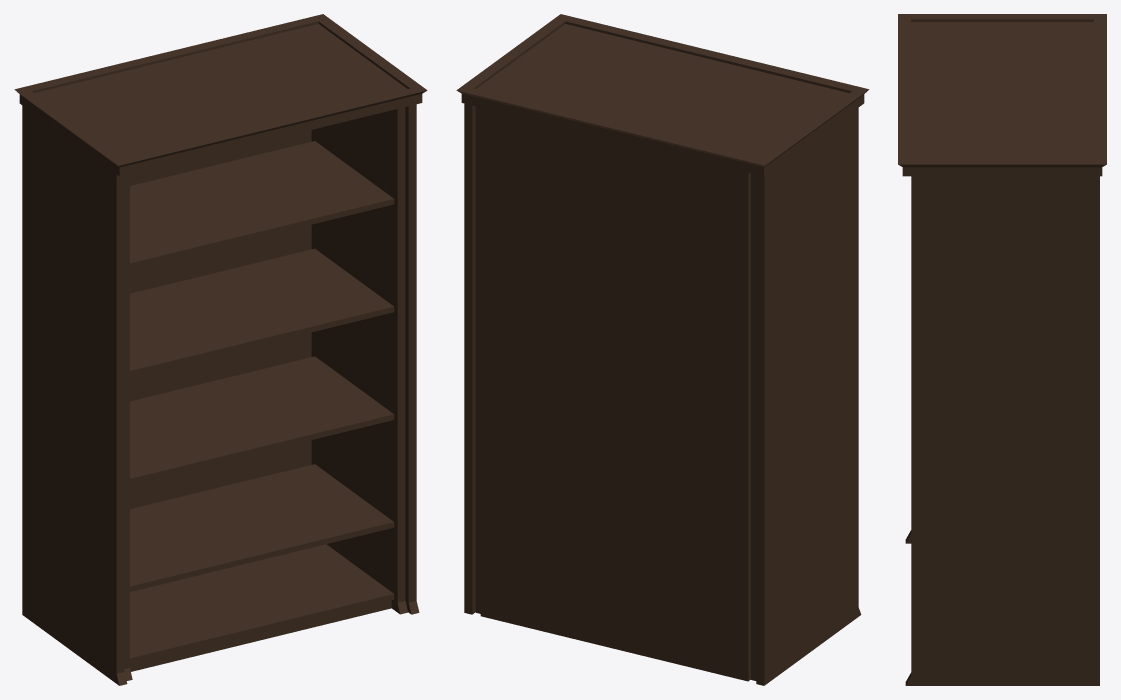
File: cabinet_small.glb
The picture shows the model from 3 angles, left to right: view 1: azimuth 30°, elevation 25°; view 2: azimuth 150°, elevation 25°; view 3: azimuth 270°, elevation 25°; orthographic projection.
Visible parts, largest first — view 1: Cube.001_Cube.002; view 2: Cube.001_Cube.002; view 3: Cube.001_Cube.002.
Boxes of the visible parts, x1,y1,x2,y2 form: Cube.001_Cube.002: [14, 14, 427, 685]; Cube.001_Cube.002: [456, 14, 869, 685]; Cube.001_Cube.002: [898, 14, 1106, 685].
Size of the model in its own units: 4.5 by 7.3 by 2.64.
